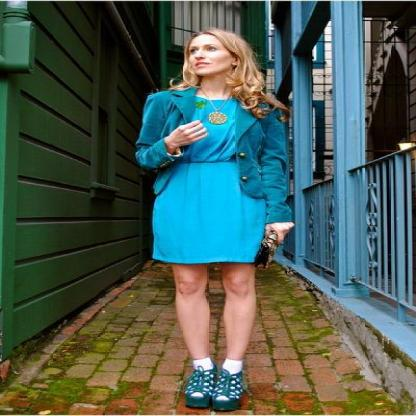bag: (241, 226, 288, 266)
dress: (152, 98, 261, 263)
jacket: (136, 87, 294, 237)
shoe: (183, 364, 244, 412)
